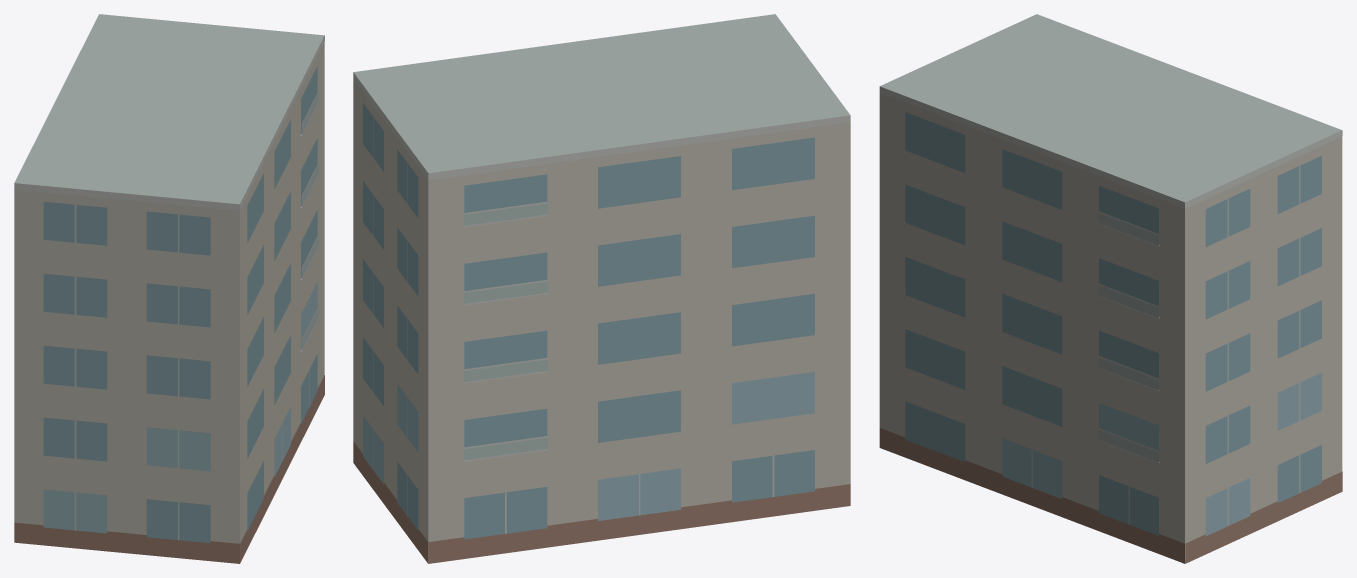
The model's file is survey-upis-32534434.glb.
3 renders of one model, left to right at view 1: azimuth 30°, elevation 25°; view 2: azimuth 150°, elevation 25°; view 3: azimuth 270°, elevation 25°, orthographic. The views are drawn at different scales.
Parts seen in each view (by area): view 1: survey-upis-32534434.tmp; view 2: survey-upis-32534434.tmp; view 3: survey-upis-32534434.tmp.
Part boxes in pixels (x1=…): survey-upis-32534434.tmp: x1=14, y1=14, x2=324, y2=563; survey-upis-32534434.tmp: x1=353, y1=14, x2=850, y2=563; survey-upis-32534434.tmp: x1=879, y1=14, x2=1342, y2=563.
Bounding box in the file's own units: 15.55 × 13.9 × 16.14.
